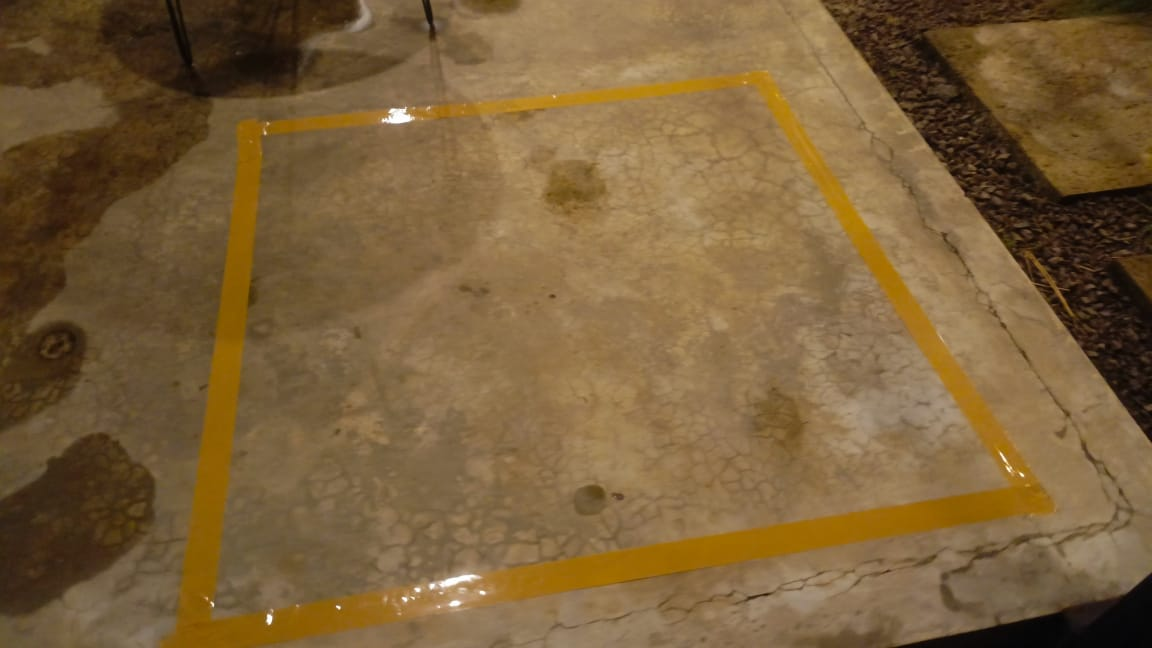floor marking: (166, 72, 1053, 647)
